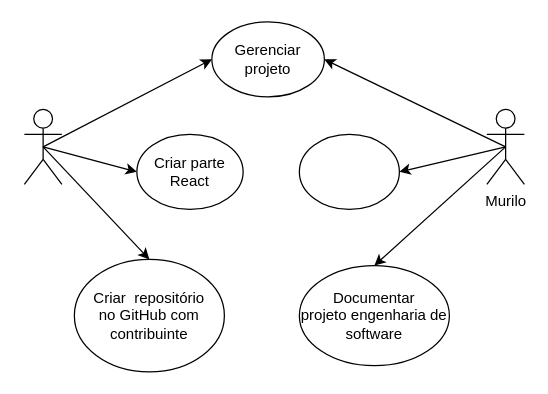
Some shapes in this 548 by 394 pixel diagram are drawn without their labels. The centre of each missing label's shape, as x and y in pixels:
"Criar parte android" goes at (348,171).
"Rhuan" goes at (42,146).
